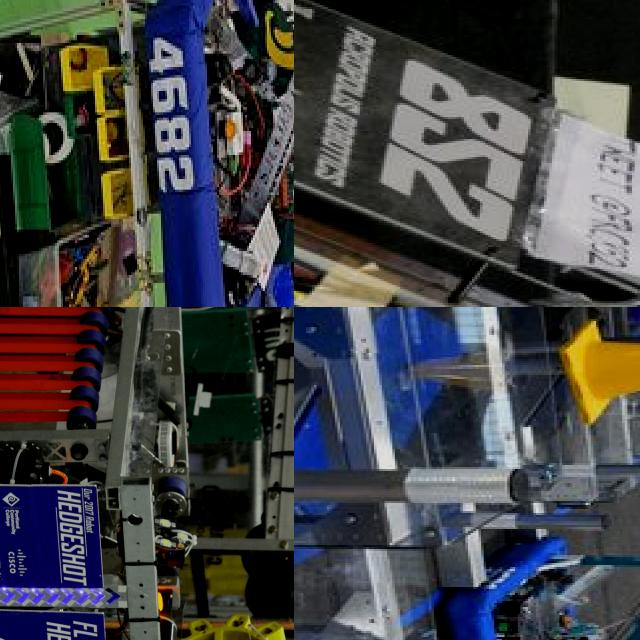FRC-Robots: (294, 0, 640, 307), (0, 307, 294, 640), (440, 307, 640, 640), (118, 0, 294, 307)
